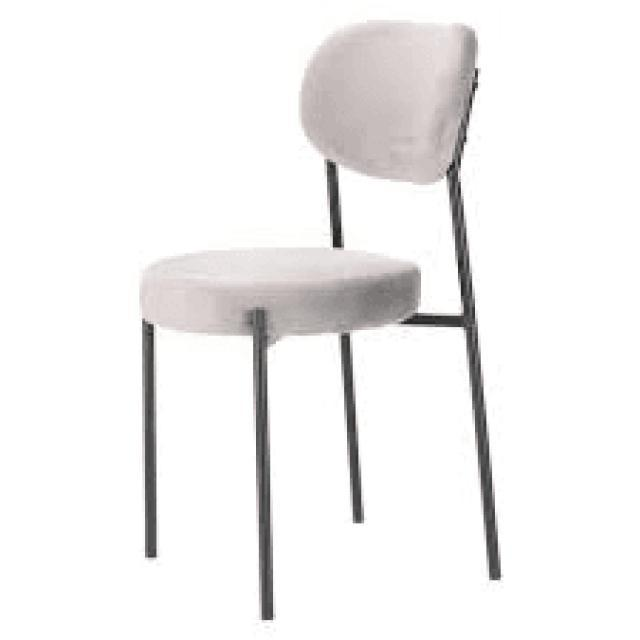chair: (134, 12, 511, 621), (142, 16, 497, 336)
